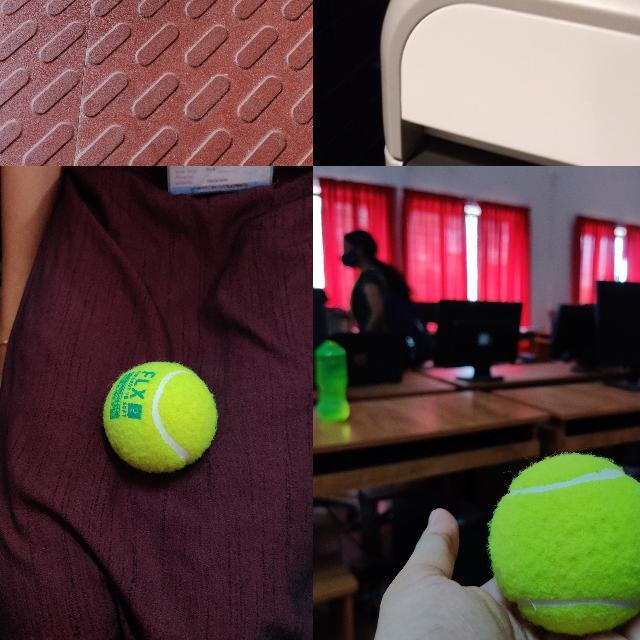tennis-ball: (488, 454, 639, 635), (103, 361, 216, 471)
